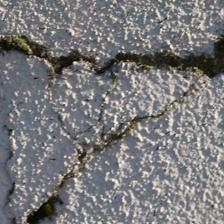Crack: (90, 40, 131, 151), (189, 98, 224, 224)
